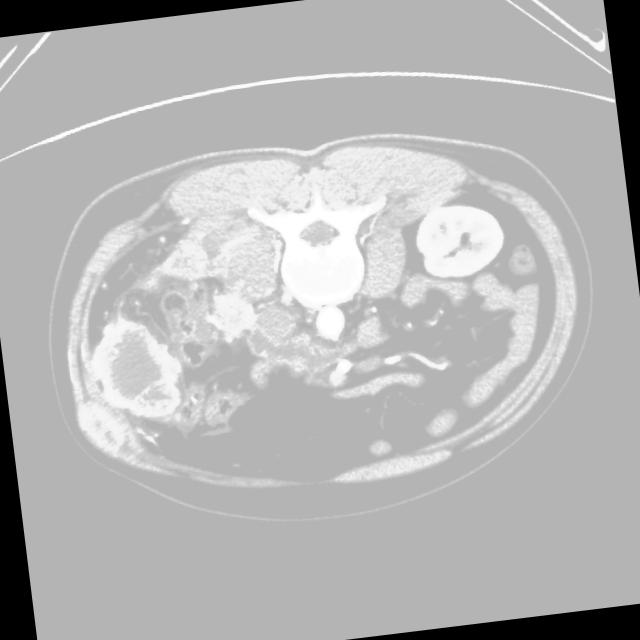TUMOR: (57, 174, 521, 500)
